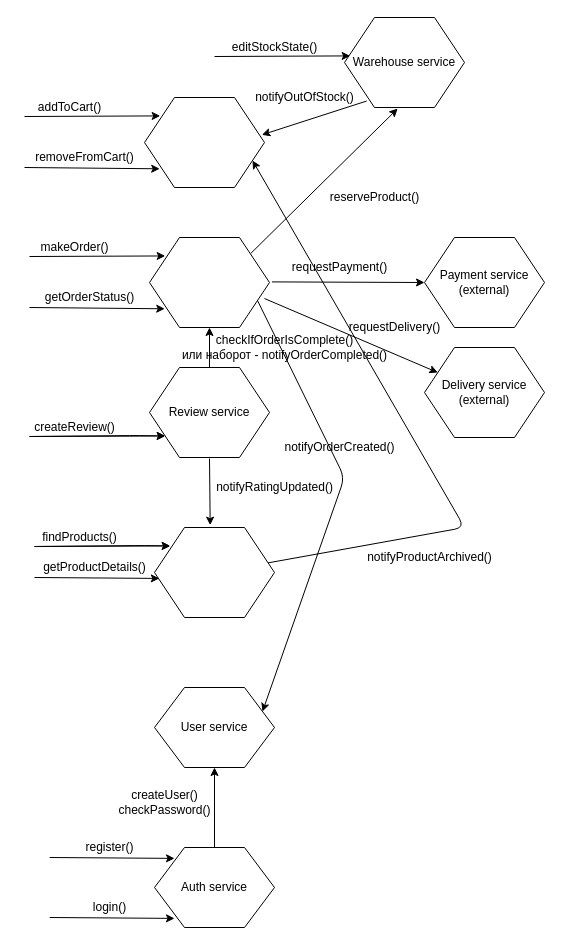
Image size: 562x945. Some labels were removed from this diagram. The centre of each missing label's shape, as x and y in pixels:
"Cart service" belongs at (x=204, y=142).
"Order service" belongs at (x=209, y=282).
"Product service" belongs at (x=214, y=572).
